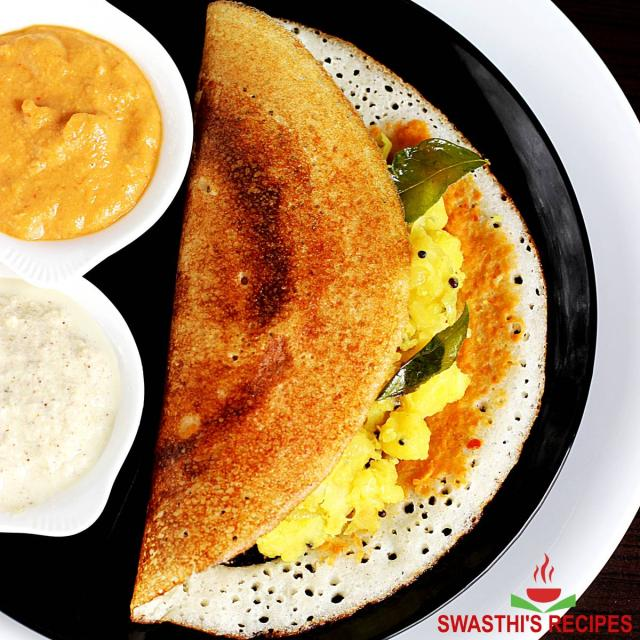DOSA: (128, 20, 546, 638)
